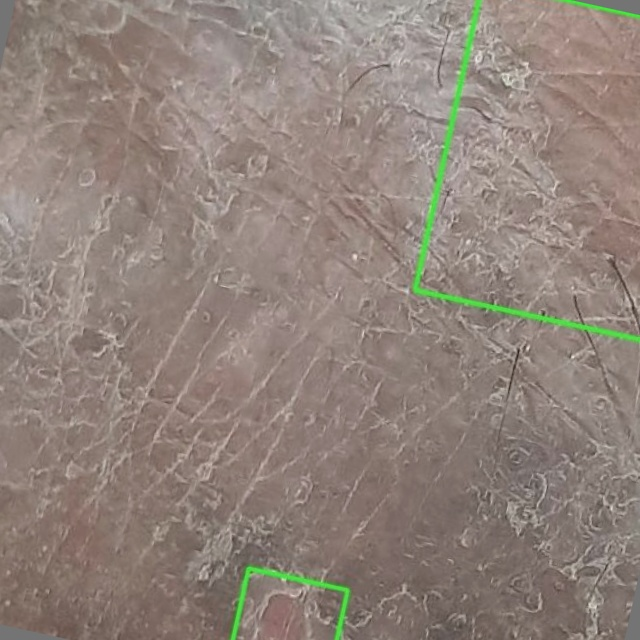Eczema: (414, 0, 639, 340)
